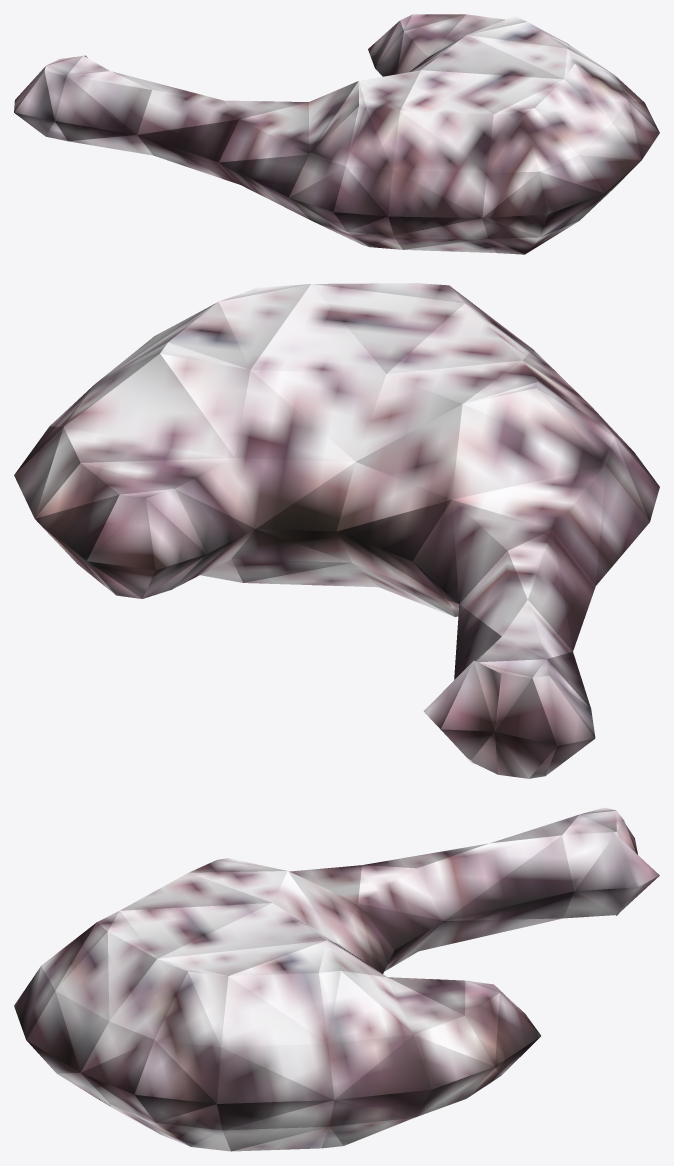
Rendered from Chicken.fbx.
The picture shows the model from 3 angles, top to bottom: view 1: azimuth 30°, elevation 25°; view 2: azimuth 150°, elevation 25°; view 3: azimuth 270°, elevation 25°; orthographic projection. The views are drawn at different scales.
Parts seen in each view (by area): view 1: Chicken; view 2: Chicken; view 3: Chicken.
Part boxes in pixels (<box>): Chicken: <box>14,14,659,254</box>; Chicken: <box>14,283,659,778</box>; Chicken: <box>14,807,659,1151</box>.
Size of the model in its own units: 54.14 by 16.12 by 51.88.
1 material, 1 textured.
